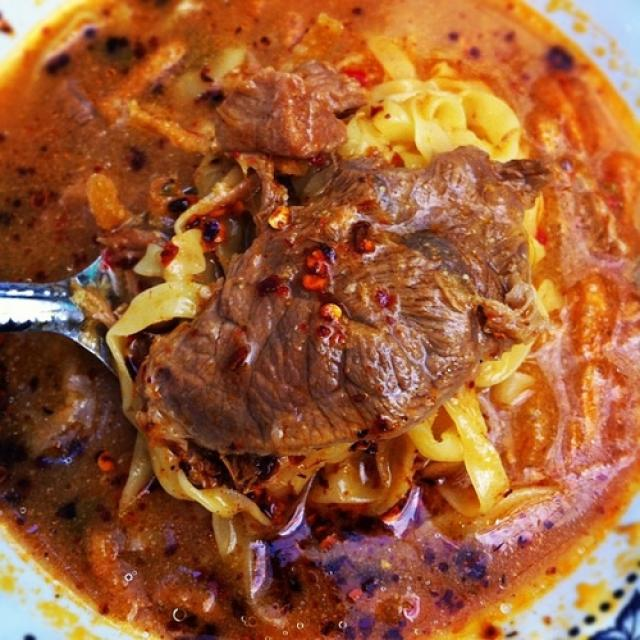面条主食: (13, 10, 623, 626)
